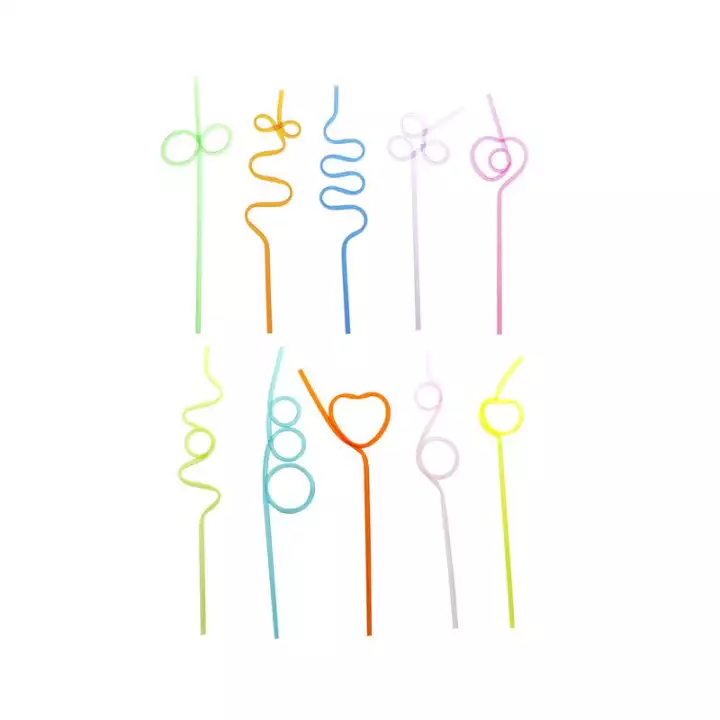Drinking Straw: (474, 354, 535, 634), (468, 88, 534, 339), (241, 85, 305, 338), (177, 346, 230, 637), (313, 88, 374, 332)
